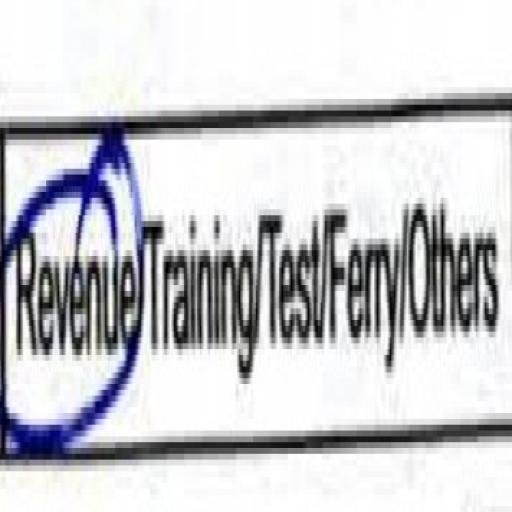check: (1, 46, 140, 512)
